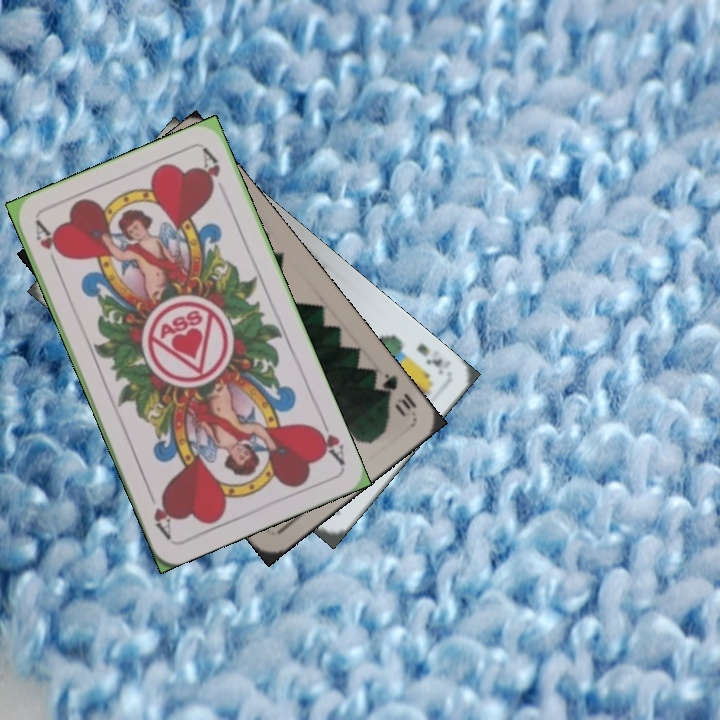EK: (412, 339, 454, 378)
G10: (370, 369, 420, 420)
HA: (308, 412, 348, 469), (31, 217, 65, 273)
